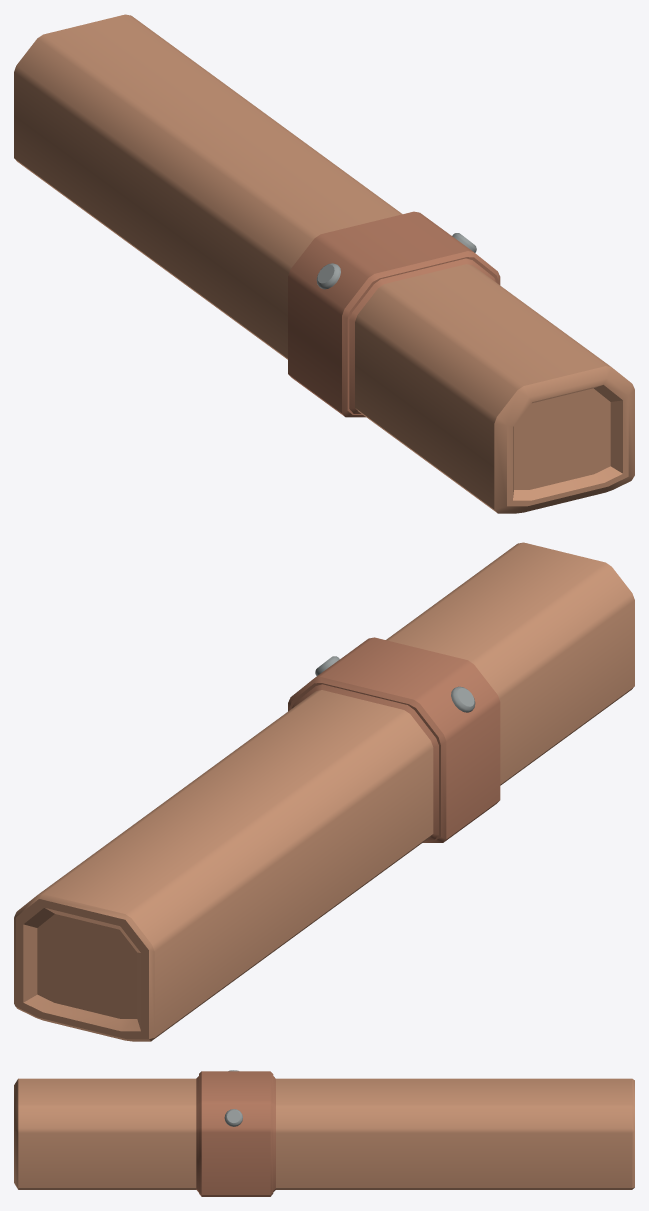
File: Pilone_02 1.fbx
3 views of the same model, one above another, from view 1: azimuth 30°, elevation 25°; view 2: azimuth 150°, elevation 25°; view 3: azimuth 270°, elevation 25° (orthographic). The views are drawn at different scales.
Parts seen in each view (by area): view 1: Cube.012; view 2: Cube.012; view 3: Cube.012.
Part boxes in pixels (left/top/right/bottom): Cube.012: left=14, top=14, right=634, bottom=513; Cube.012: left=14, top=542, right=634, bottom=1041; Cube.012: left=14, top=1070, right=634, bottom=1196.
Bounding box in the file's own units: 89.67 × 77.08 × 476.
